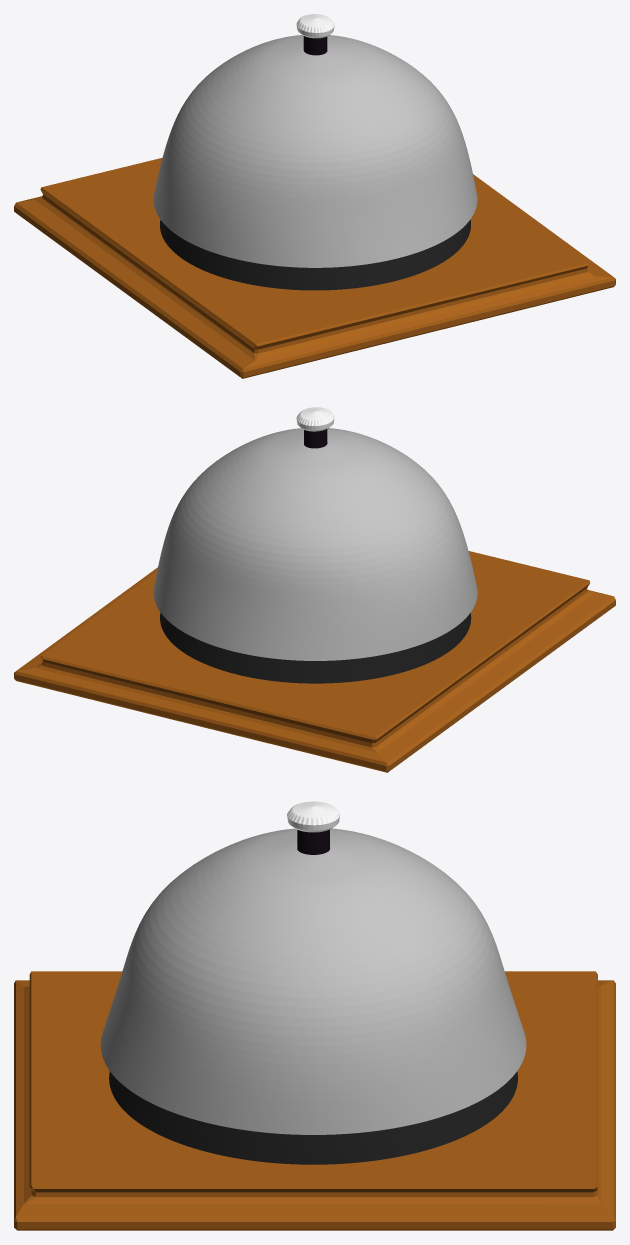
Rendered from NEWbell.fbx.
The picture shows the model from 3 angles, top to bottom: view 1: azimuth 30°, elevation 25°; view 2: azimuth 150°, elevation 25°; view 3: azimuth 270°, elevation 25°; orthographic projection. The views are drawn at different scales.
Visible parts, largest first — view 1: s_bell, bell; view 2: s_bell, bell; view 3: s_bell, bell.
Boxes of the visible parts, x1=… form: s_bell: x1=14, y1=35, x2=615, y2=378; bell: x1=296, y1=14, x2=334, y2=55; s_bell: x1=14, y1=428, x2=615, y2=772; bell: x1=296, y1=407, x2=334, y2=448; s_bell: x1=14, y1=828, x2=615, y2=1230; bell: x1=287, y1=801, x2=339, y2=854.
Bounding box in the file's own units: 9.75 × 5.78 × 10.29.
